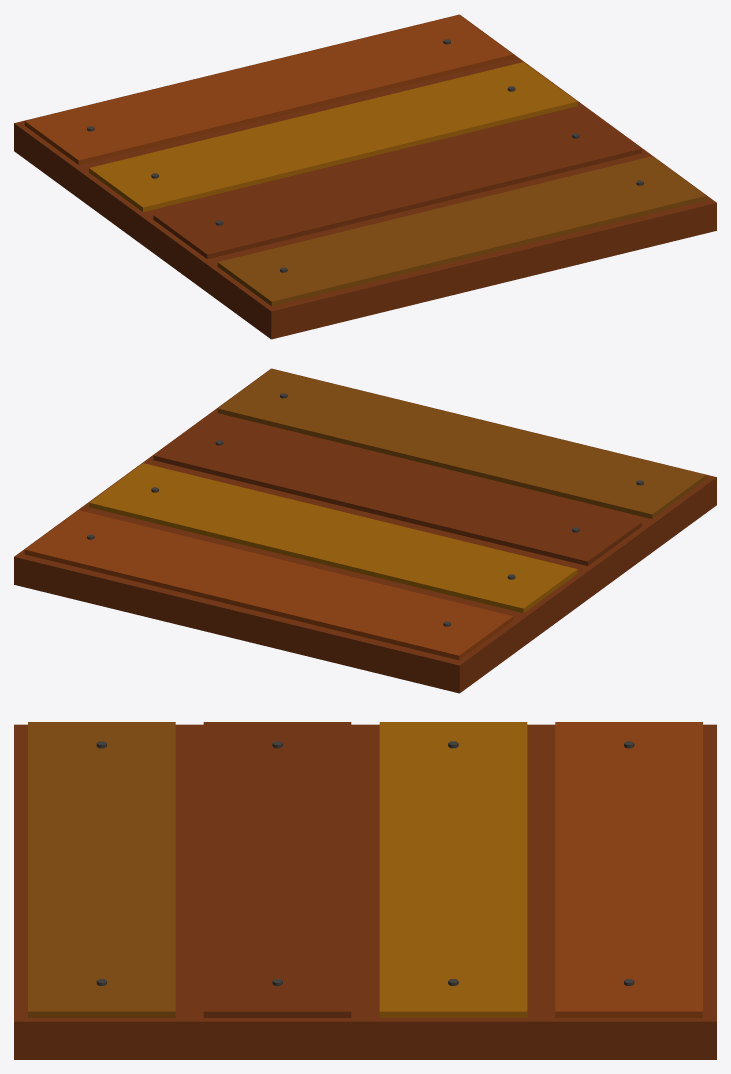
The model's file is floor_wood_2x2.glb.
3 views of the same model, one above another, from view 1: azimuth 30°, elevation 25°; view 2: azimuth 150°, elevation 25°; view 3: azimuth 270°, elevation 25° (orthographic). The views are drawn at different scales.
Bounding box in the file's own units: 1.98 × 0.1532 × 1.98.
